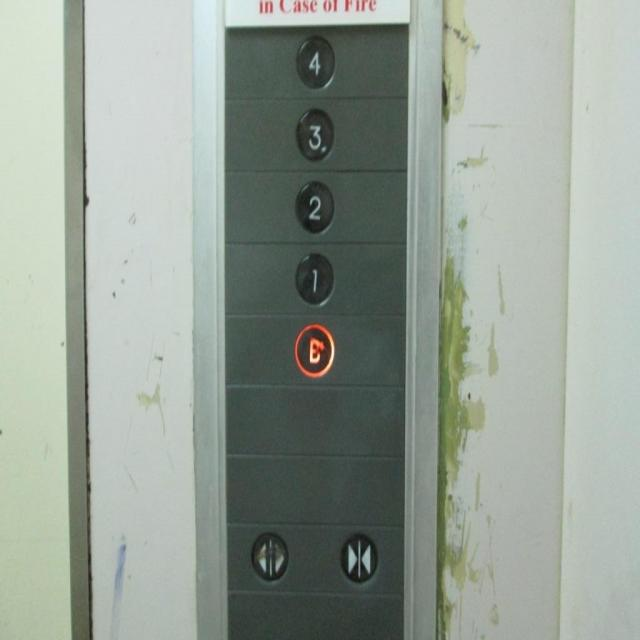1: (291, 248, 337, 310)
2: (292, 178, 337, 238)
3: (294, 103, 337, 165)
4: (293, 33, 337, 92)
B: (292, 321, 335, 381)
close: (338, 530, 380, 586)
open: (248, 528, 290, 584)
